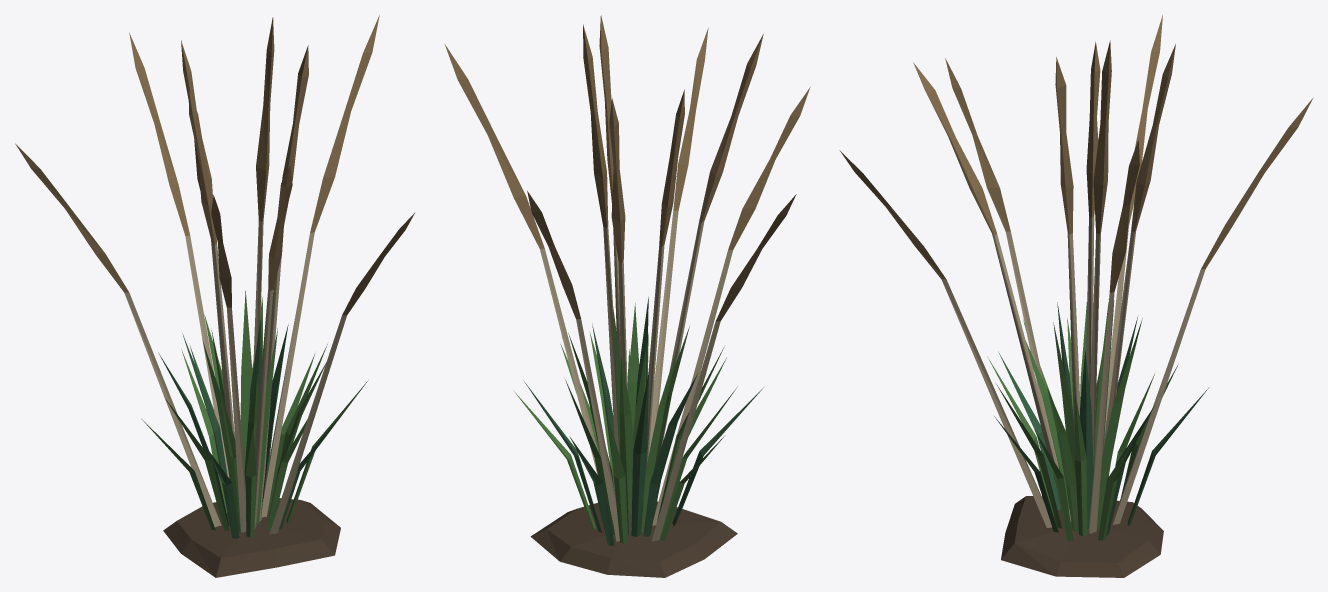
The model's file is moat-reed-clump-dd6b60.glb.
3 renders of one model, left to right at view 1: azimuth 30°, elevation 25°; view 2: azimuth 150°, elevation 25°; view 3: azimuth 270°, elevation 25°, orthographic. The views are drawn at different scales.
Parts seen in each view (by area): view 1: sheaf, mud-pad; view 2: sheaf, mud-pad; view 3: sheaf, mud-pad.
Part boxes in pixels (<box>): sheaf: <box>15,15,415,538</box>; mud-pad: <box>163,498,340,577</box>; sheaf: <box>444,15,810,545</box>; mud-pad: <box>530,501,737,577</box>; sheaf: <box>839,15,1313,541</box>; mud-pad: <box>1001,496,1163,577</box>.
Size of the model in its own units: 1.32 by 1.79 by 1.49.
